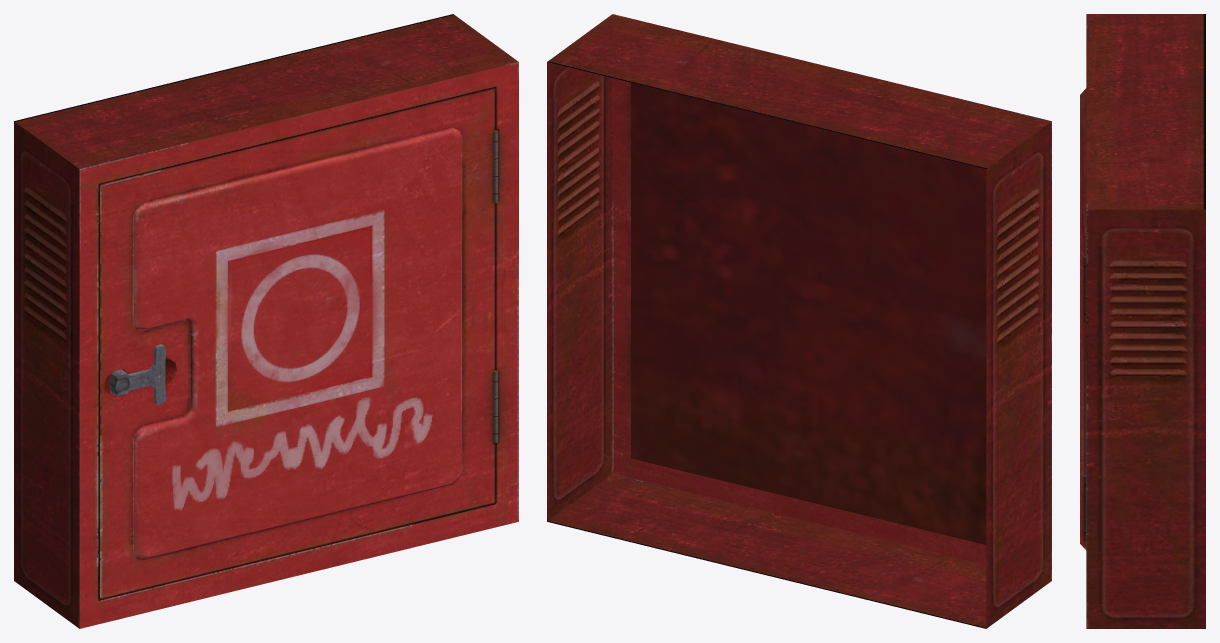
File: fire_hose_box_wau.dae
The picture shows the model from 3 angles, left to right: view 1: azimuth 30°, elevation 25°; view 2: azimuth 150°, elevation 25°; view 3: azimuth 270°, elevation 25°; orthographic projection. The views are drawn at different scales.
Visible parts, largest first — view 1: polySurface238, polySurface235; view 2: polySurface235; view 3: polySurface235, polySurface238.
Part boxes in pixels (x1,y1,x2,y2): polySurface238: [100, 88, 498, 598]; polySurface235: [14, 14, 518, 628]; polySurface235: [547, 14, 1051, 628]; polySurface235: [1086, 14, 1205, 628]; polySurface238: [1080, 88, 1086, 550].
Bounding box in the file's own units: 96.42 × 96.42 × 26.24.
